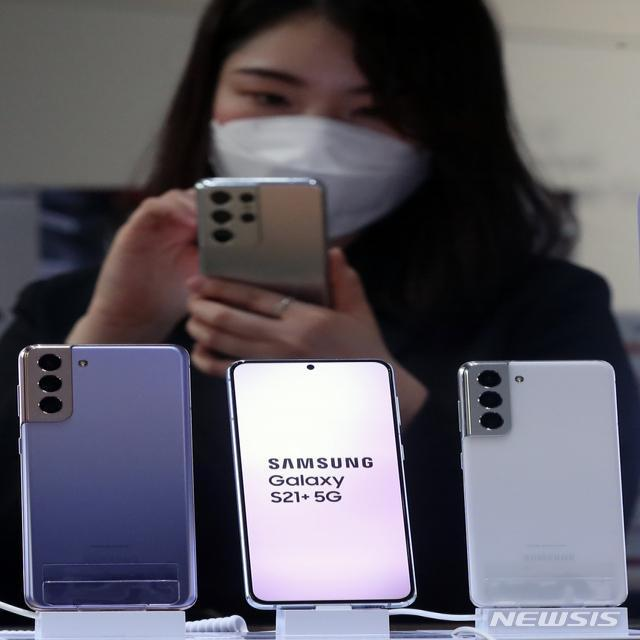phone: (18, 343, 200, 610), (457, 360, 627, 606)
